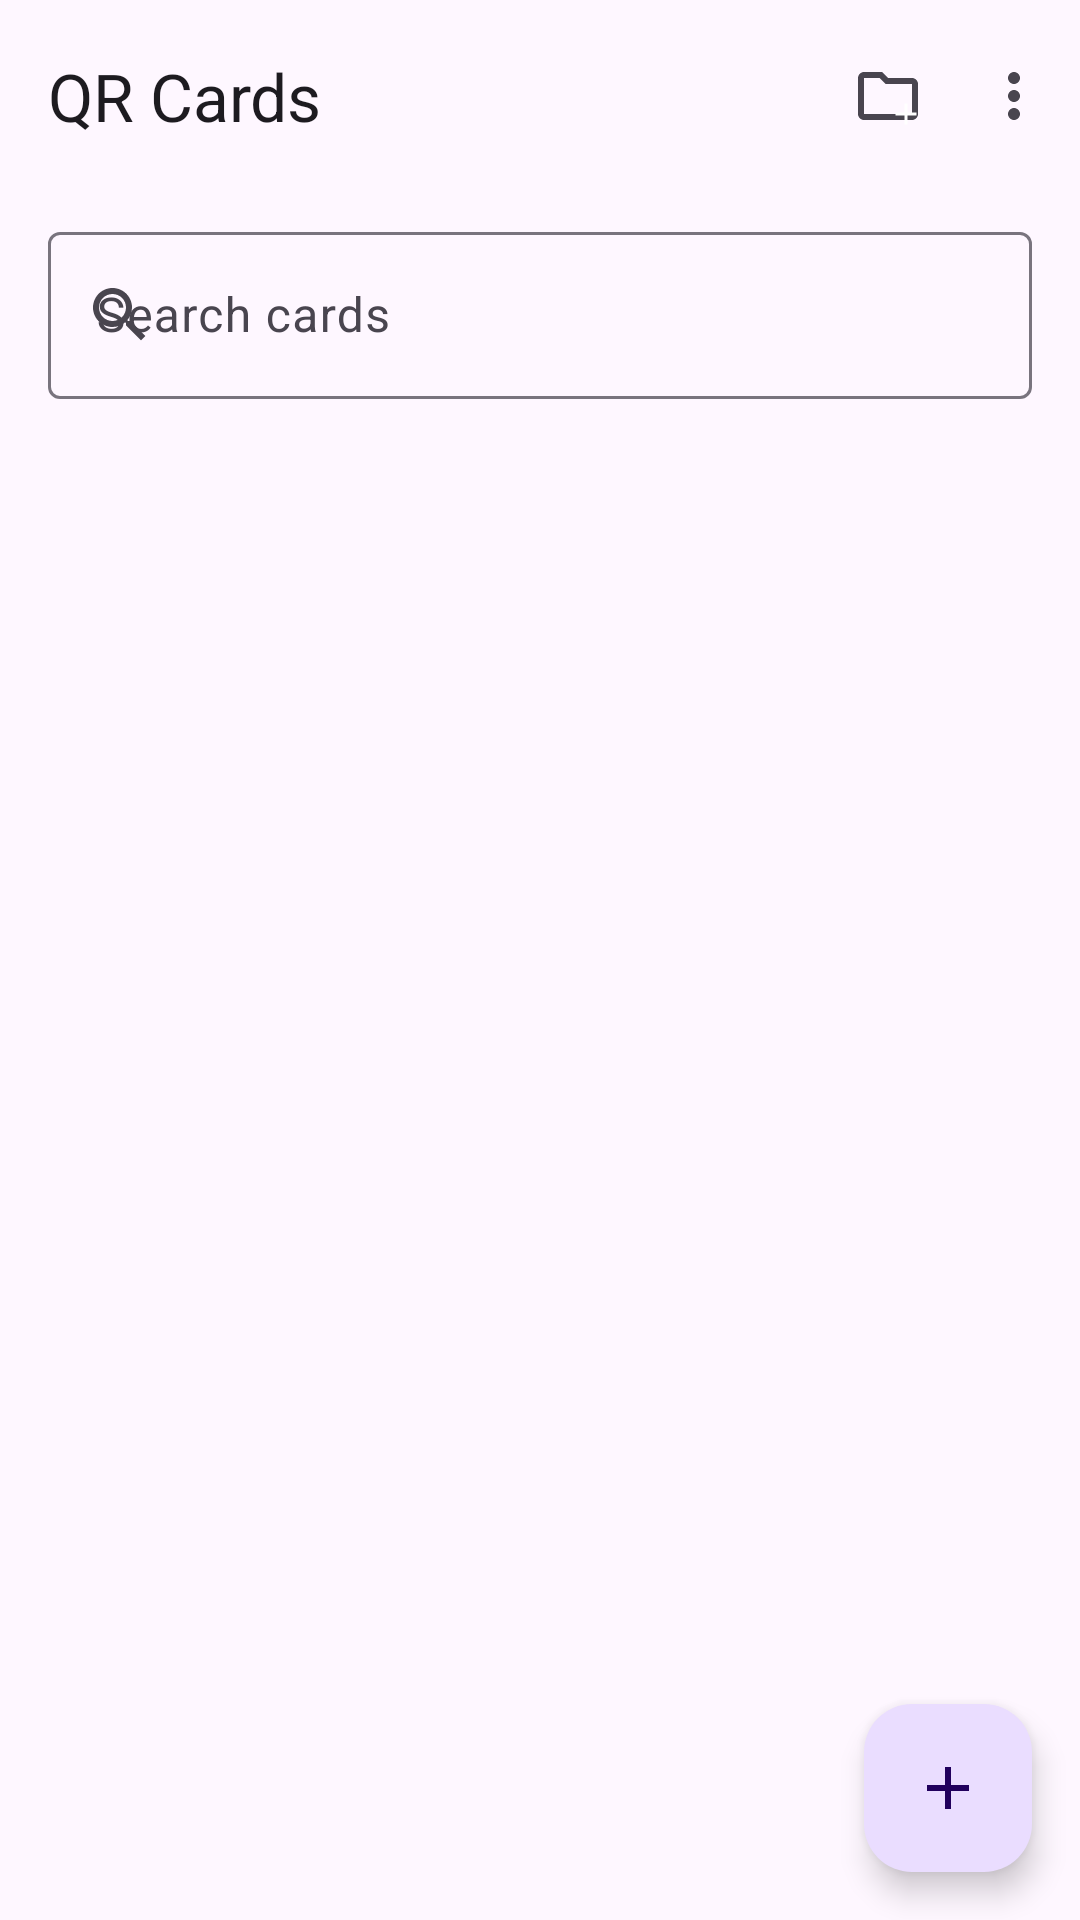

Named icons in this screenshot (1080×1920) and their bounding boxes, (x1, y1, x2, y2):
New card: (864, 1704, 1032, 1872)
